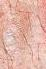plaque psoriasis: (36, 0, 46, 60)
